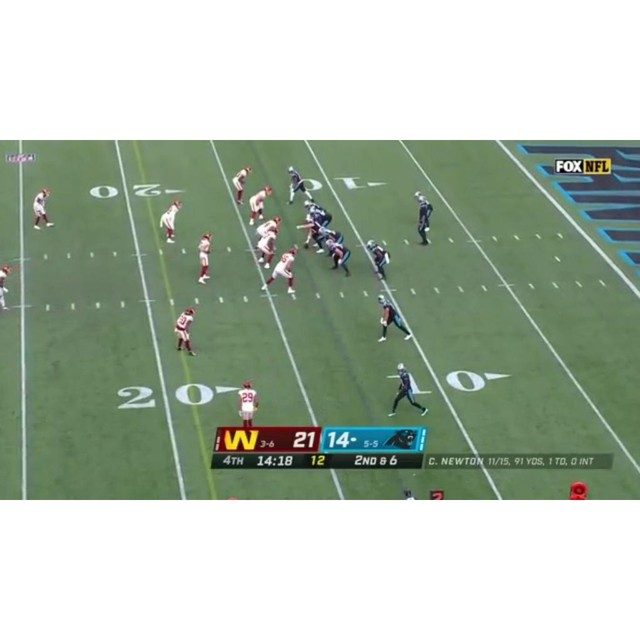american-football-player: (386, 362, 428, 417), (259, 245, 299, 295), (376, 294, 412, 343), (237, 379, 259, 428), (365, 239, 390, 281), (175, 308, 197, 355), (248, 185, 273, 226), (326, 239, 352, 278), (159, 199, 182, 243), (298, 217, 326, 253), (256, 228, 280, 270), (287, 166, 312, 204), (196, 231, 214, 283), (33, 187, 54, 229), (303, 202, 332, 229), (233, 165, 252, 206), (254, 215, 280, 242), (0, 264, 11, 313)
